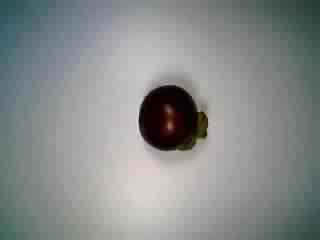mangosteen: (133, 81, 210, 158)
